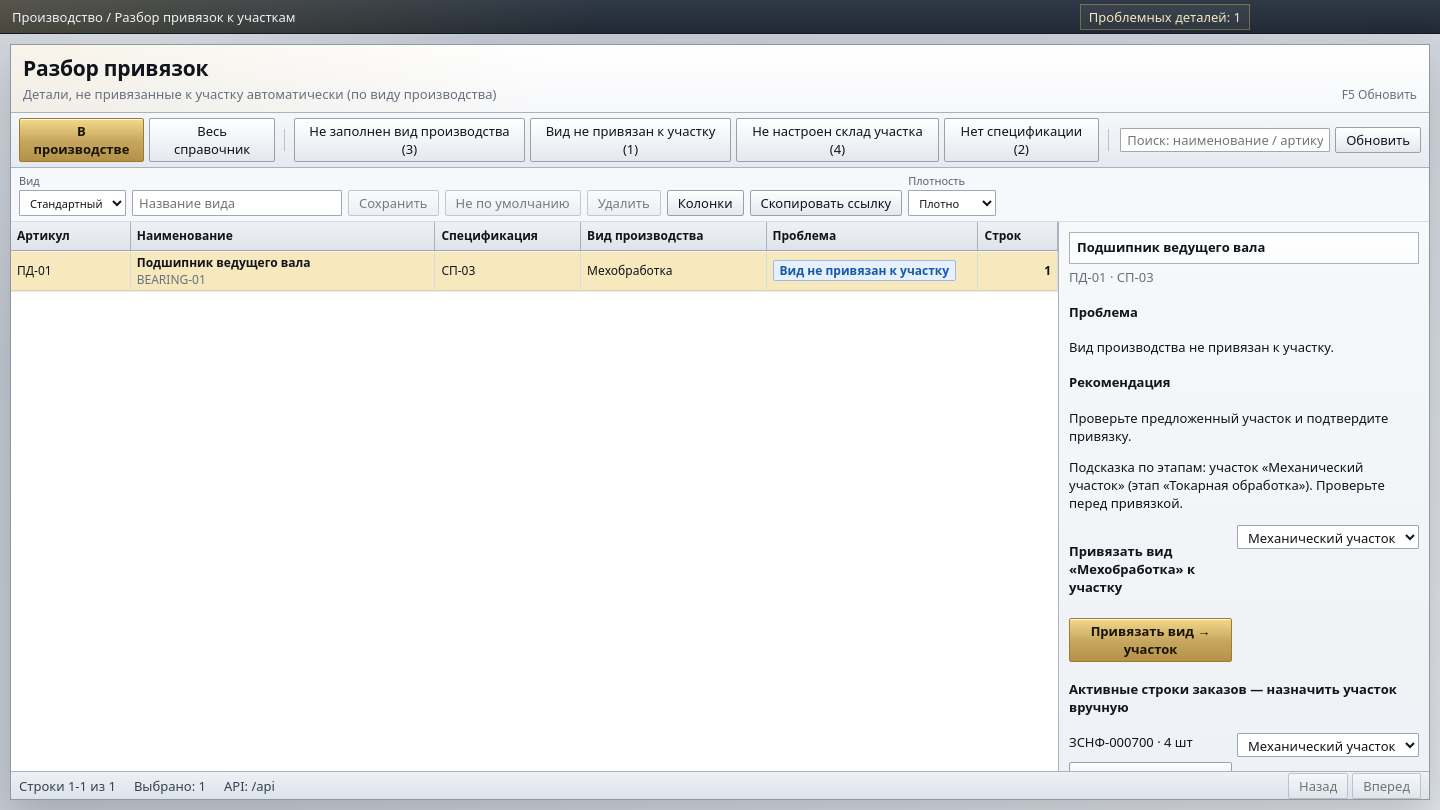
Test: WorkshopBindingReviewPage characterization › announces a failed binding mutation and does not reload the list
Expected: the text "ЗСНФ-000700 · 4 шт" is shown, [1069, 733, 1193, 751]
Click the button "Привязать вид → участок" at (1150,640), box [1069, 618, 1232, 662]
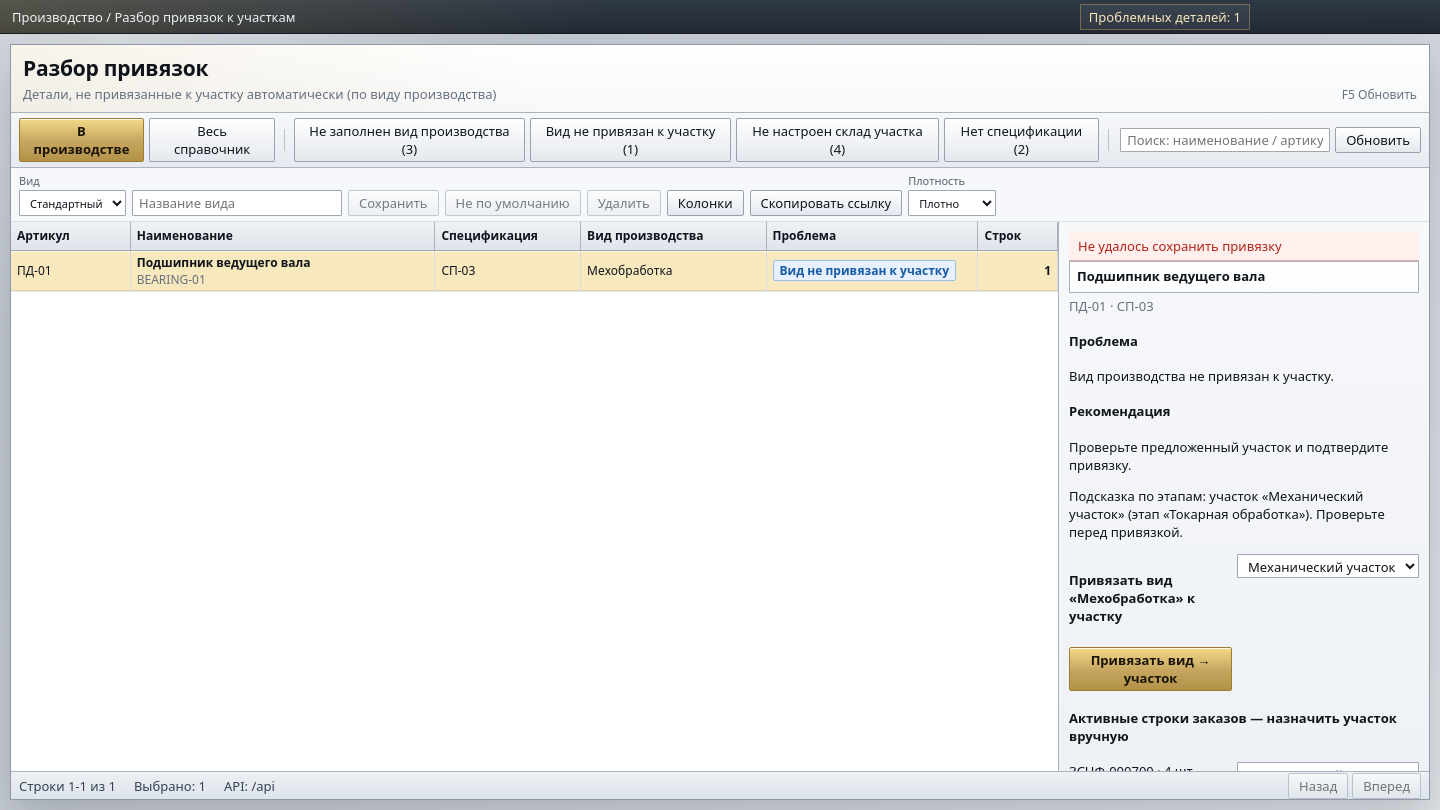
Result: the message reads "Не удалось сохранить привязку" at [1078, 237, 1282, 255]
